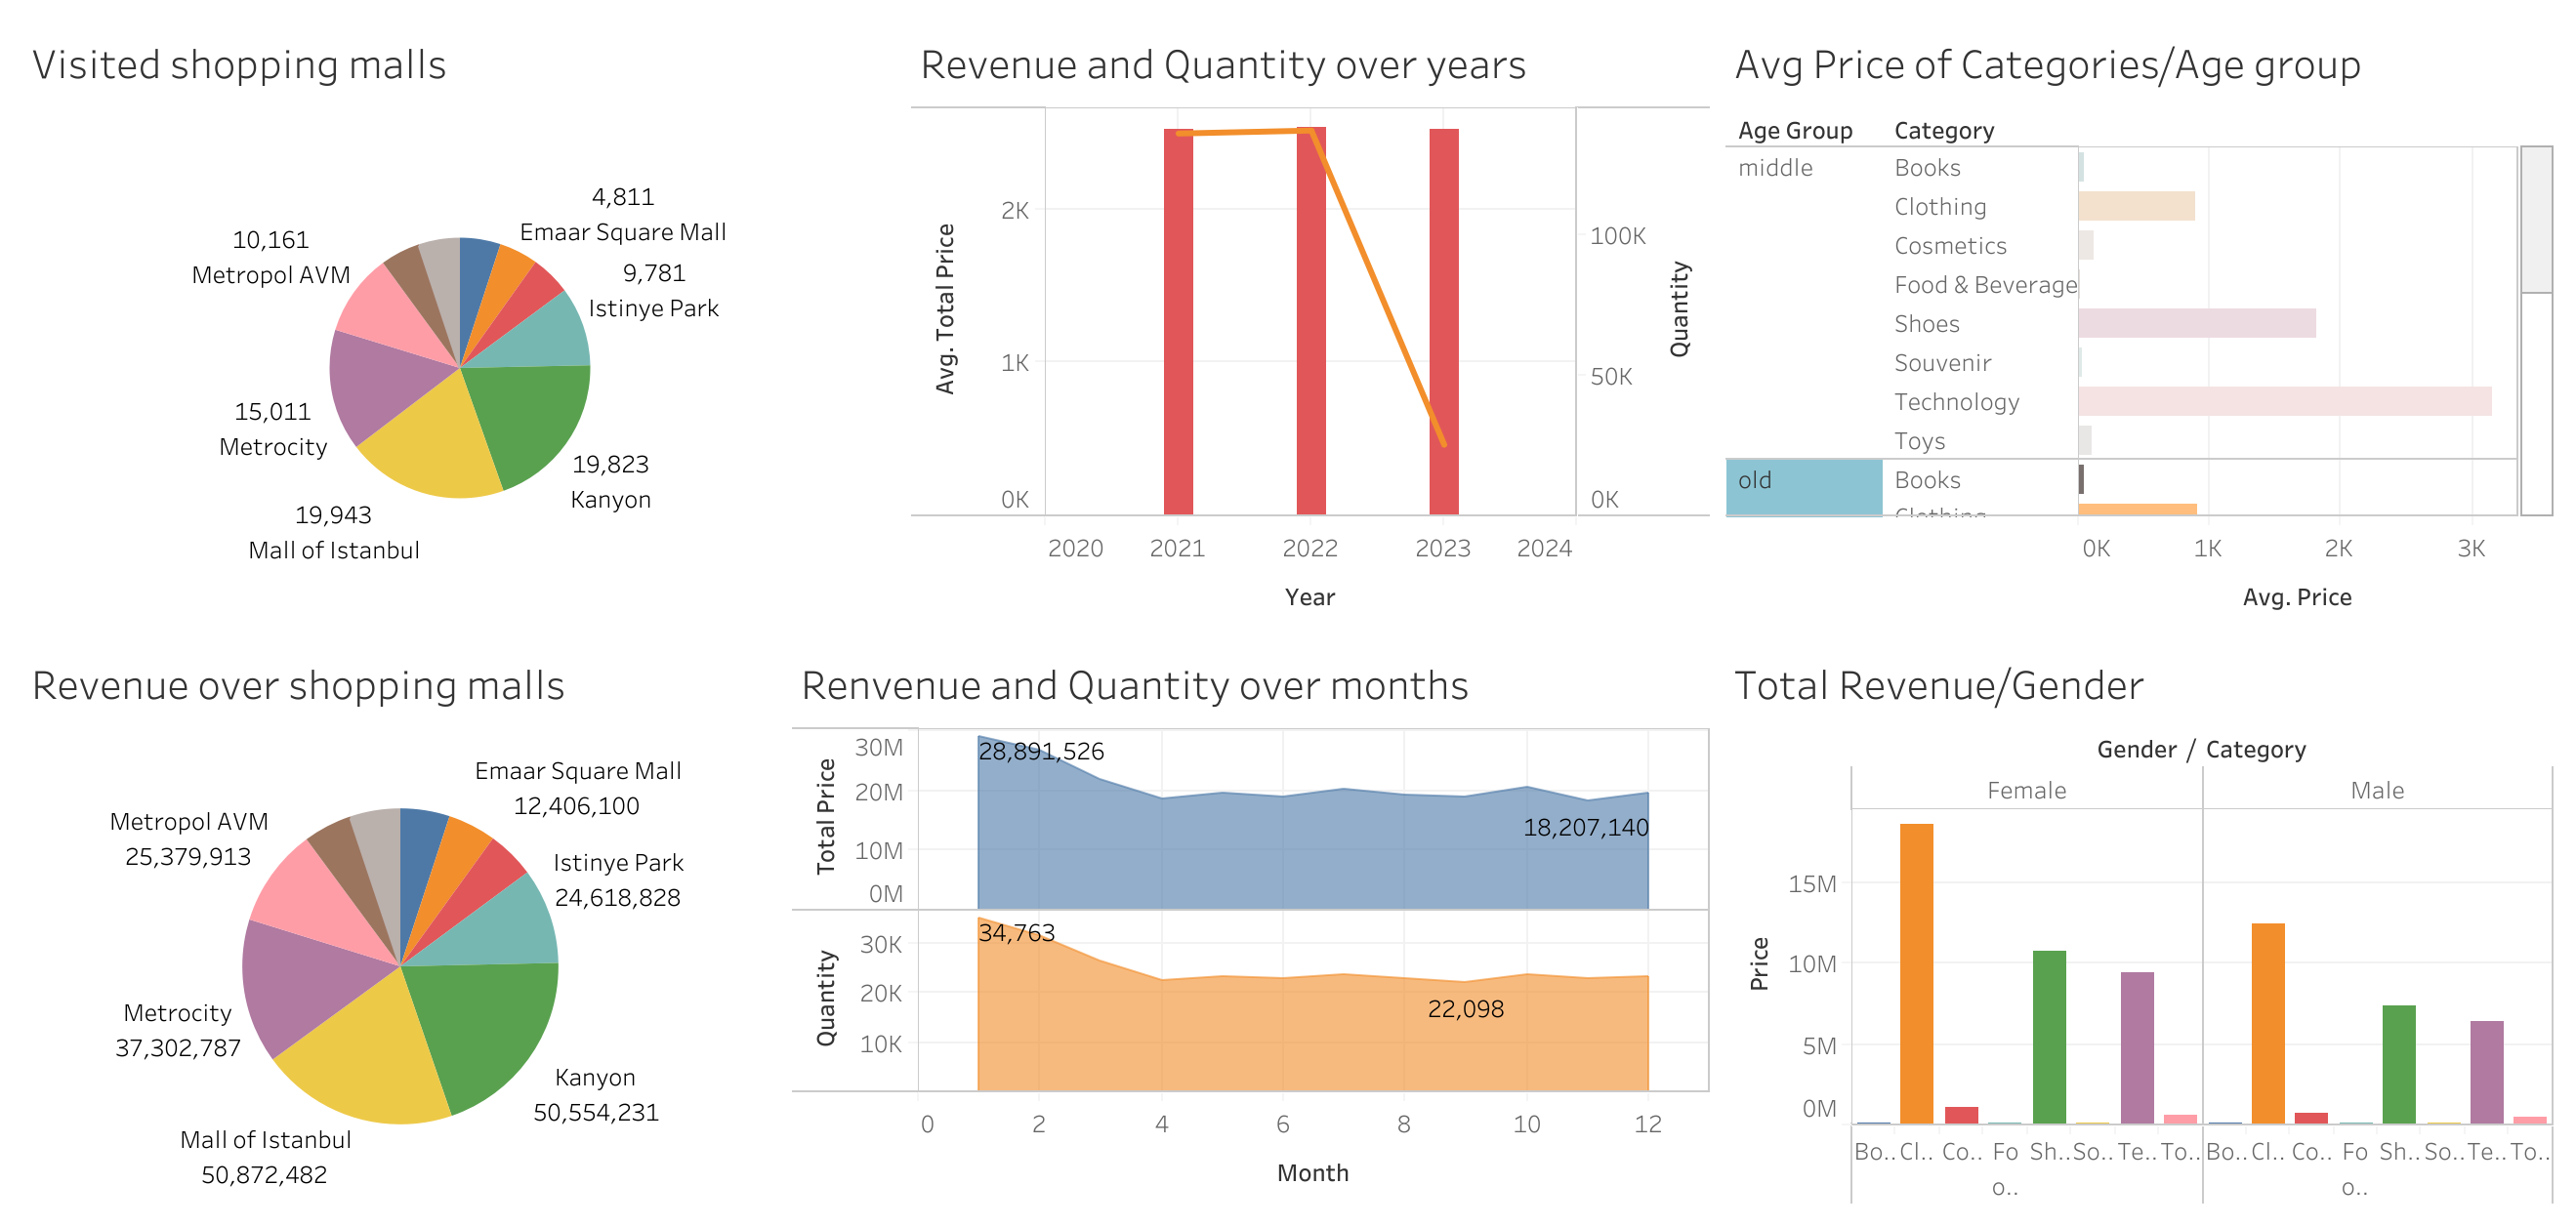

This screenshot's page, from the dashboard's own definition file:
{"tool":"tableau","page":{"name":"Dashboard 1","canvas":[1000,1000],"units":"permille","ordinal":0},"visuals":[{"type":"worksheet","title":"Visited shopping malls","mark":"Pie","box":[6.3,10.6,337.3,507.3]},{"type":"worksheet","title":"Revenue and Quantity over years","mark":"Automatic","rows":["total_price","quantity"],"cols":["year"],"box":[343.6,10.6,309.7,507.3]},{"type":"worksheet","title":"Avg Price of Categories/Age group","mark":"Automatic","rows":["age_group","category"],"cols":["price"],"box":[653.3,10.6,340.4,507.3]},{"type":"worksheet","title":"Revenue over shopping malls","mark":"Pie","box":[6.3,517.9,292.6,471.5]},{"type":"worksheet","title":"Renvenue and Quantity over months","mark":"Area","rows":["total_price","quantity"],"cols":["month"],"box":[298.9,517.9,354.4,471.5]},{"type":"worksheet","title":"Total Revenue/Gender","mark":"Automatic","rows":["price"],"cols":["gender","category"],"box":[653.3,517.9,340.4,471.5]}]}

Visuals, with their boxes on the dashboard's canvas, which has no fixed pixel size, in thousandths of its width and height (x1, y1, x2, y2). These are canvas units, not pixel positions in the 2576x1226 screenshot, which may show the page scaled, cropped or inside an application window:
"Visited shopping malls" worksheet (Pie marks): [6,11,344,518]
"Revenue and Quantity over years" worksheet: [344,11,653,518]
"Avg Price of Categories/Age group" worksheet: [653,11,994,518]
"Revenue over shopping malls" worksheet (Pie marks): [6,518,299,989]
"Renvenue and Quantity over months" worksheet (Area marks): [299,518,653,989]
"Total Revenue/Gender" worksheet: [653,518,994,989]
